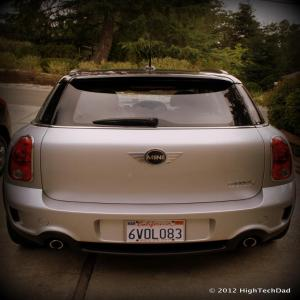Vehicle-registration-plate: (116, 216, 203, 245)
